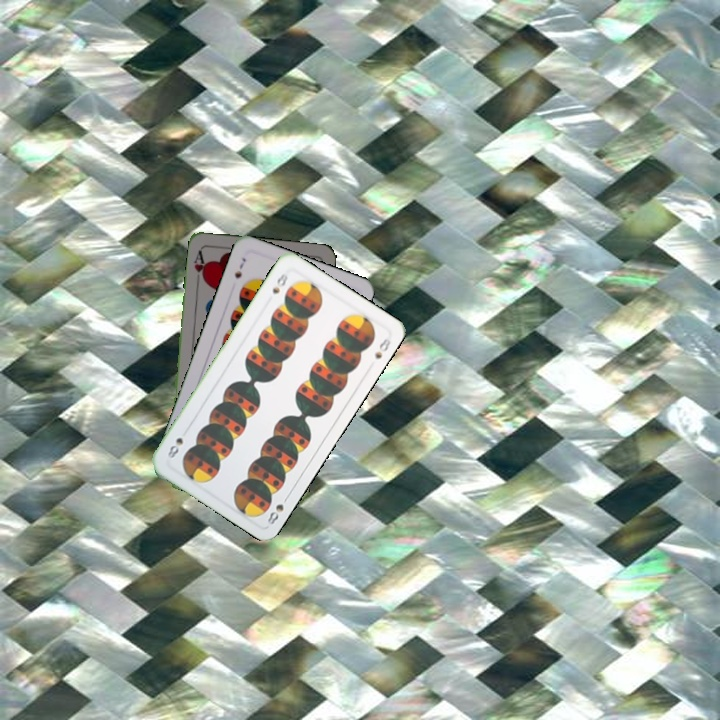HA: (190, 246, 209, 286)
S7: (230, 253, 248, 281)
S8: (263, 491, 292, 527), (268, 269, 290, 297)
